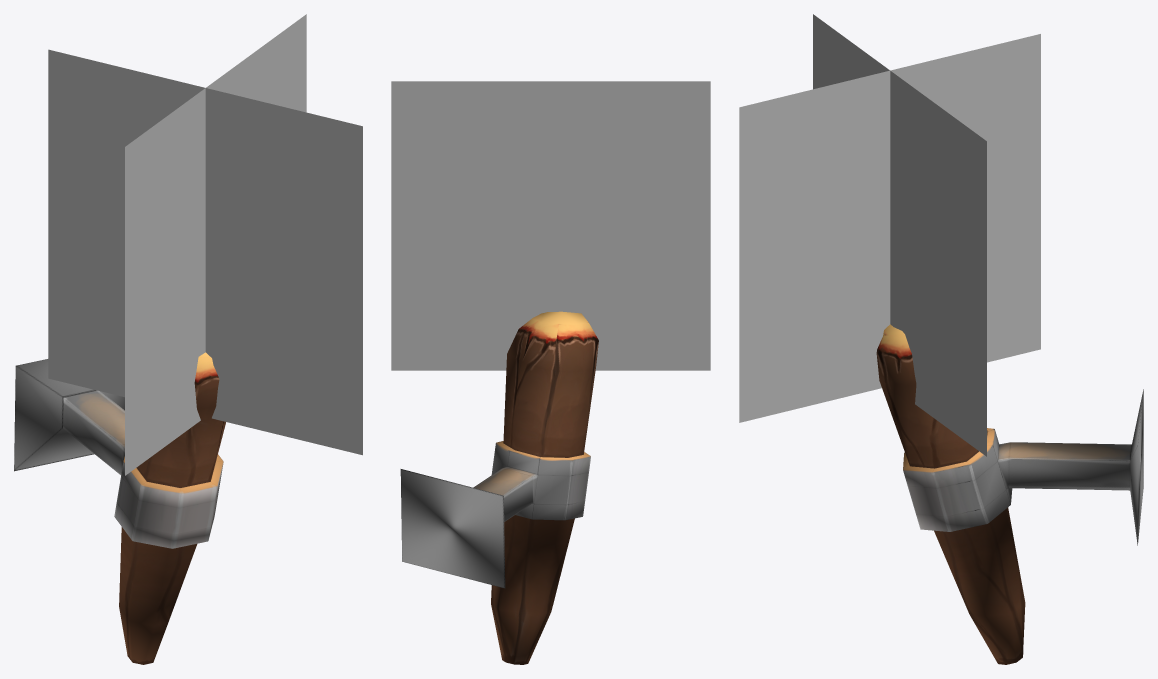
The model's file is FBX_Torch_00.FBX.
The picture shows the model from 3 angles, left to right: view 1: azimuth 30°, elevation 25°; view 2: azimuth 150°, elevation 25°; view 3: azimuth 270°, elevation 25°; orthographic projection. The views are drawn at different scales.
Parts seen in each view (by area): view 1: Mesh_Torch_Flame_00, Mesh_Torch_Flame_01, Mesh_Torch_00; view 2: Mesh_Torch_Flame_01, Mesh_Torch_00; view 3: Mesh_Torch_Flame_00, Mesh_Torch_Flame_01, Mesh_Torch_00.
Part boxes in pixels (left/top/right/bottom): Mesh_Torch_Flame_00: left=48, top=49, right=362, bottom=455; Mesh_Torch_Flame_01: left=125, top=14, right=306, bottom=475; Mesh_Torch_00: left=14, top=352, right=225, bottom=664; Mesh_Torch_Flame_01: left=391, top=81, right=710, bottom=370; Mesh_Torch_00: left=400, top=311, right=598, bottom=664; Mesh_Torch_Flame_00: left=739, top=34, right=1040, bottom=422; Mesh_Torch_Flame_01: left=813, top=14, right=986, bottom=456; Mesh_Torch_00: left=876, top=324, right=1143, bottom=664.
Size of the model in its own units: 9.23 by 19.99 by 12.37.
